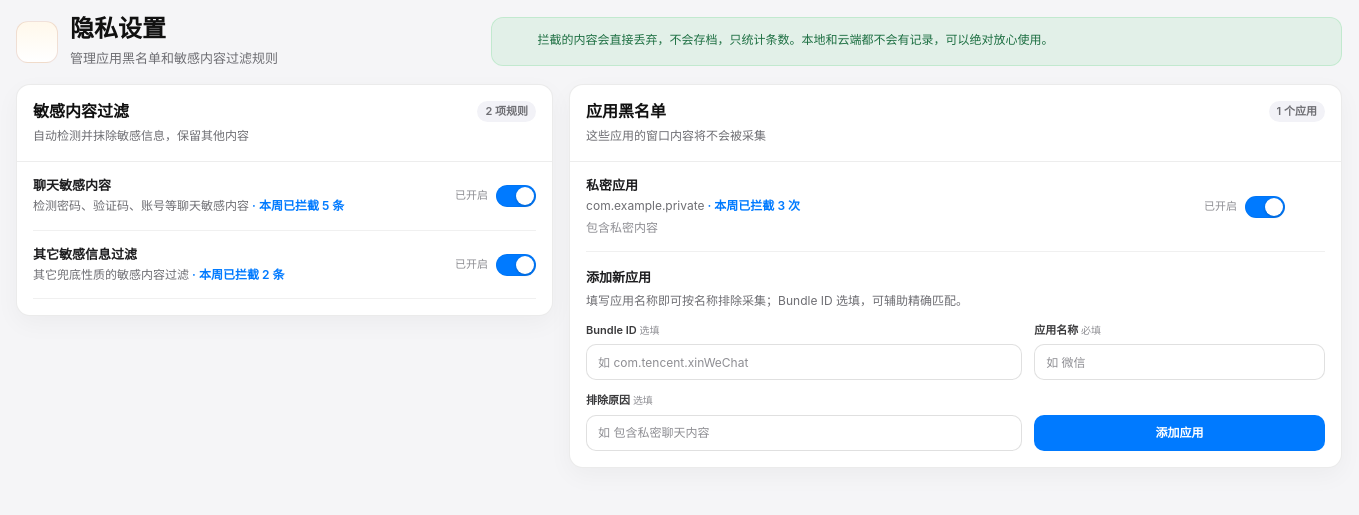
Test: PrivacyPanel › 提交失败时保留输入并显示服务端原因
This screenshot has width=1359, height=515.
In the field labelled "应用名称 必填": (1180,362) left=1034, top=344, right=1325, bottom=380, type "钉钉"
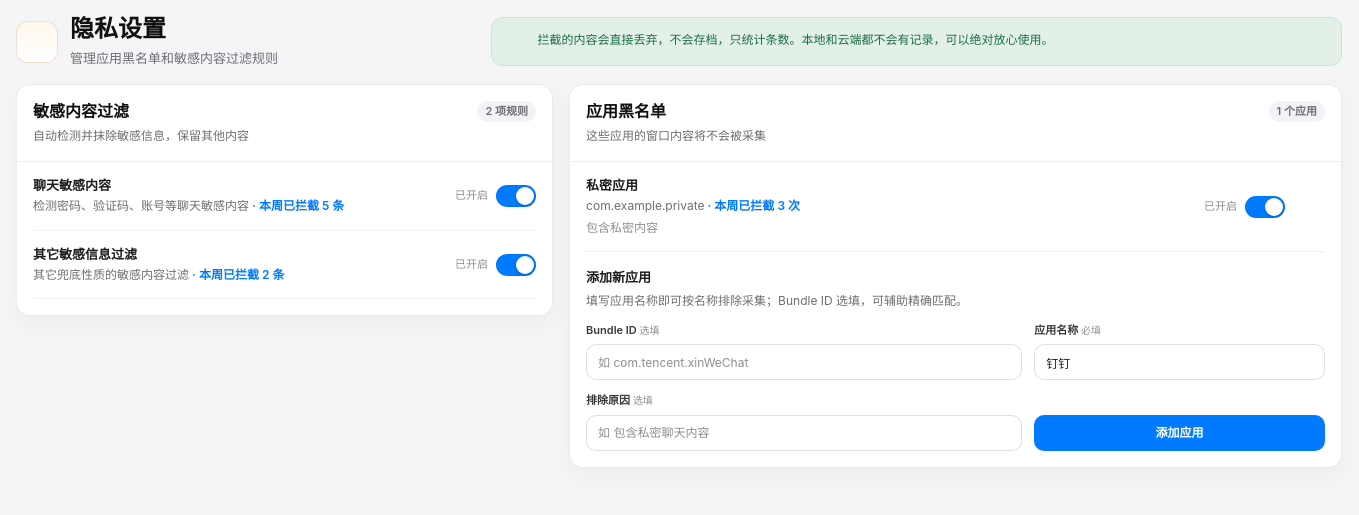
Click the button "添加应用": (1180,433) left=1034, top=415, right=1325, bottom=451
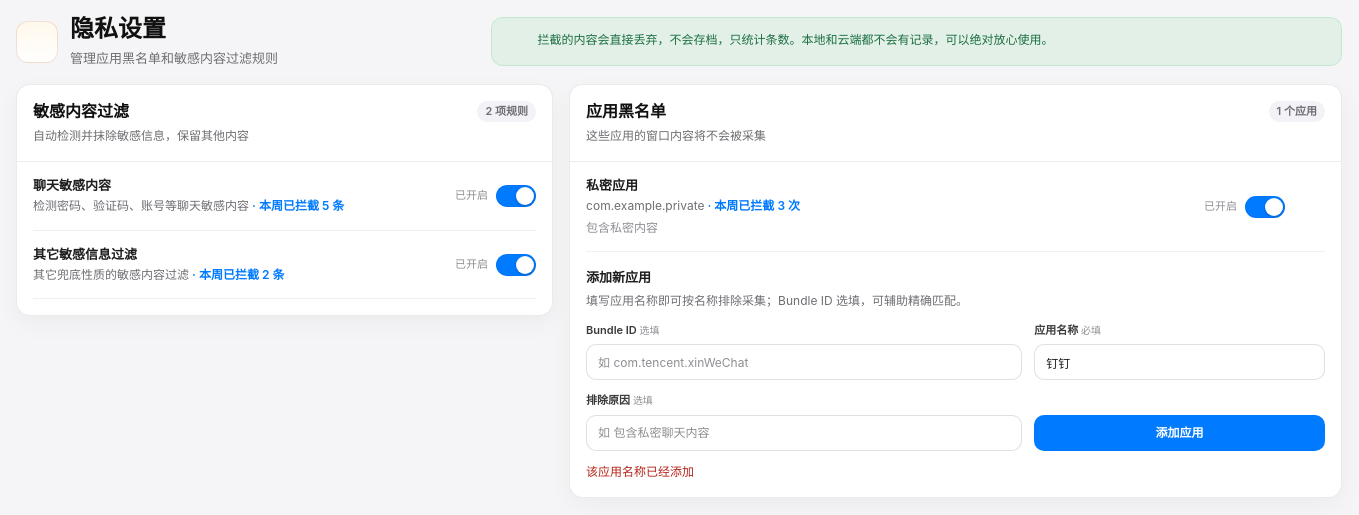
Expected: the message reads "该应用名称已经添加", left=586, top=464, right=694, bottom=479
